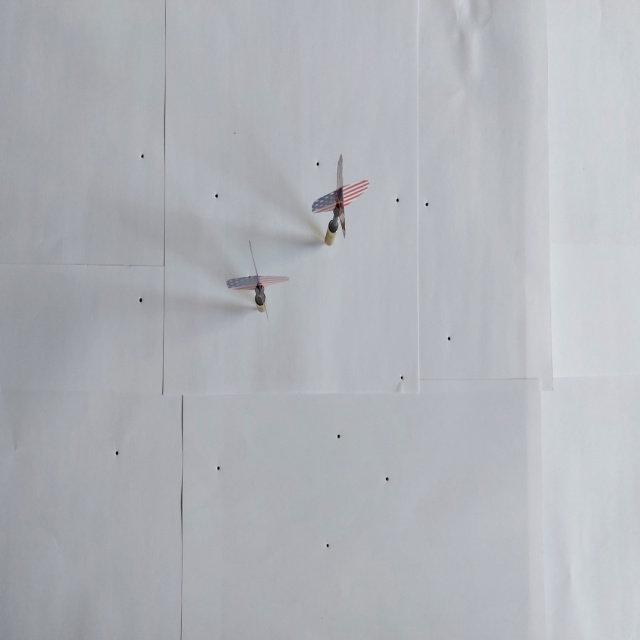Dart: (219, 236, 296, 326), (307, 152, 374, 253)
